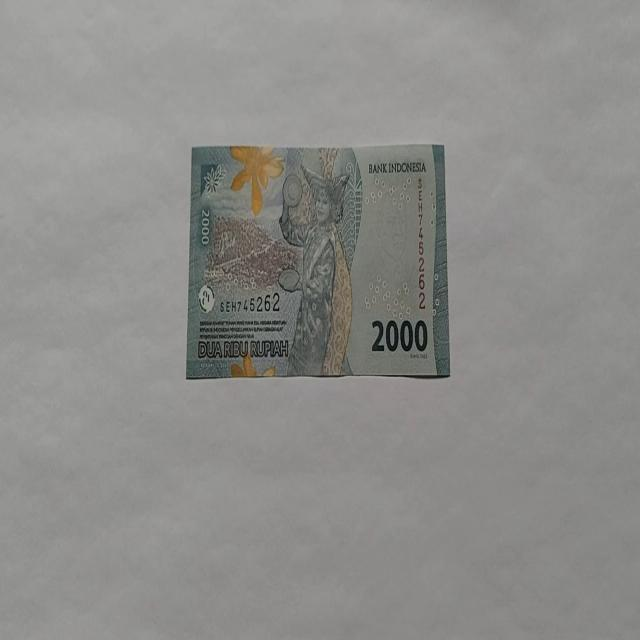dua ribu rupiah: (185, 142, 450, 380), (276, 161, 354, 376)
